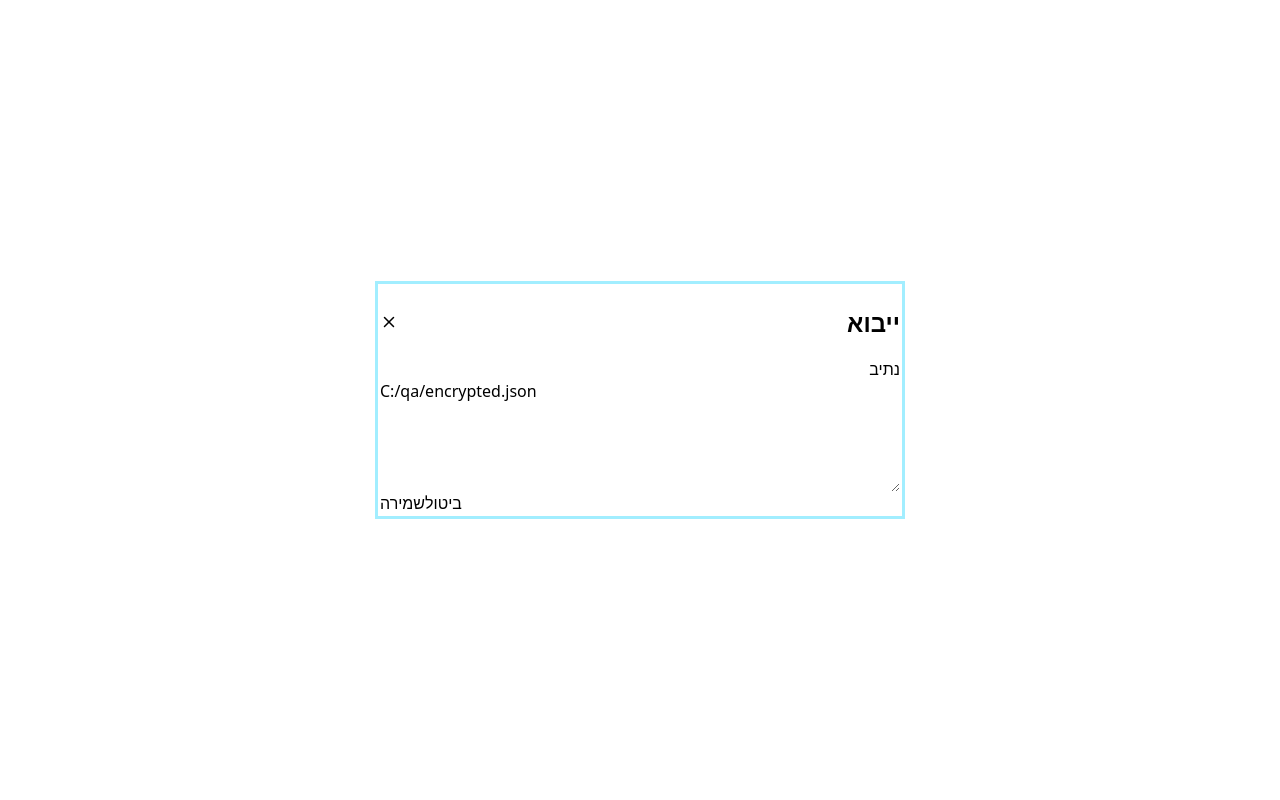
Scenario: failed input operation retains draft and prevents duplicate requests
Click the button "שמירה" at [402, 503], box [380,492,425,514]
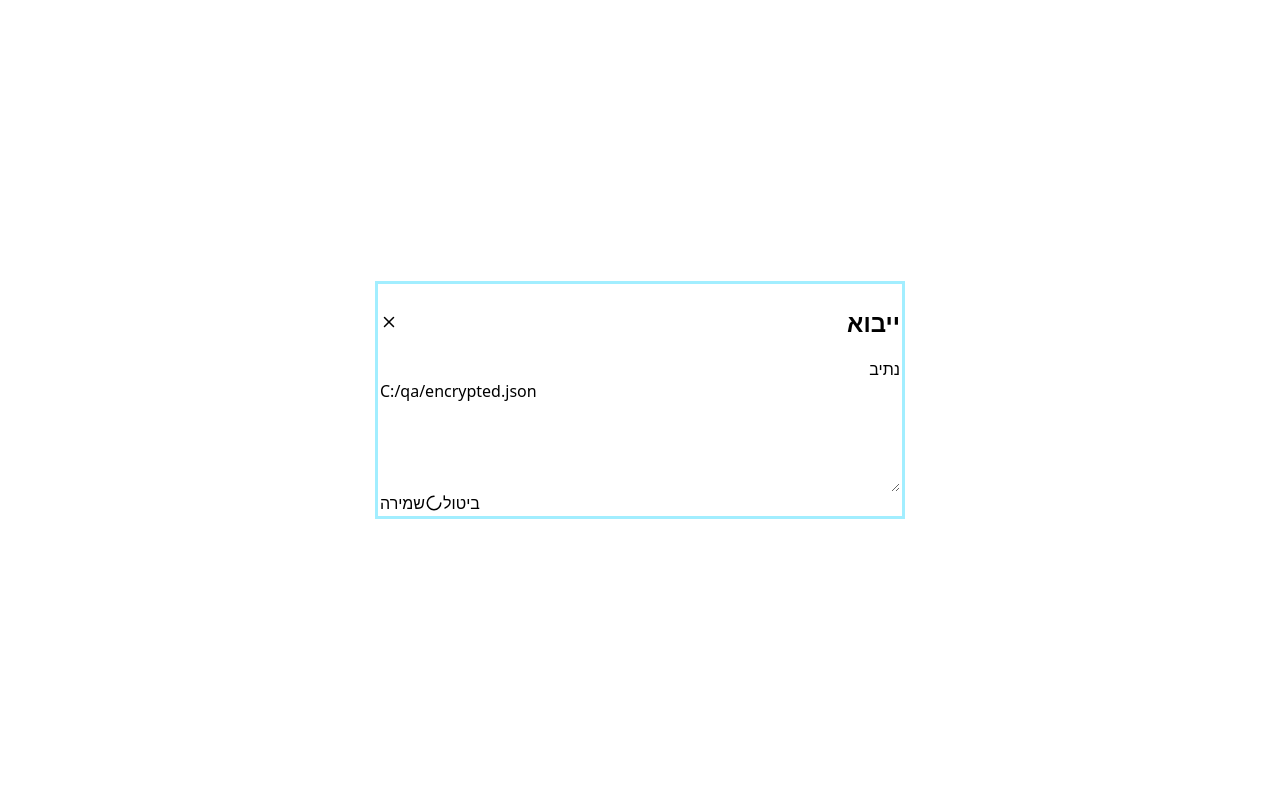
Click the button "שמירה" at [412, 503], box [380,492,443,514]
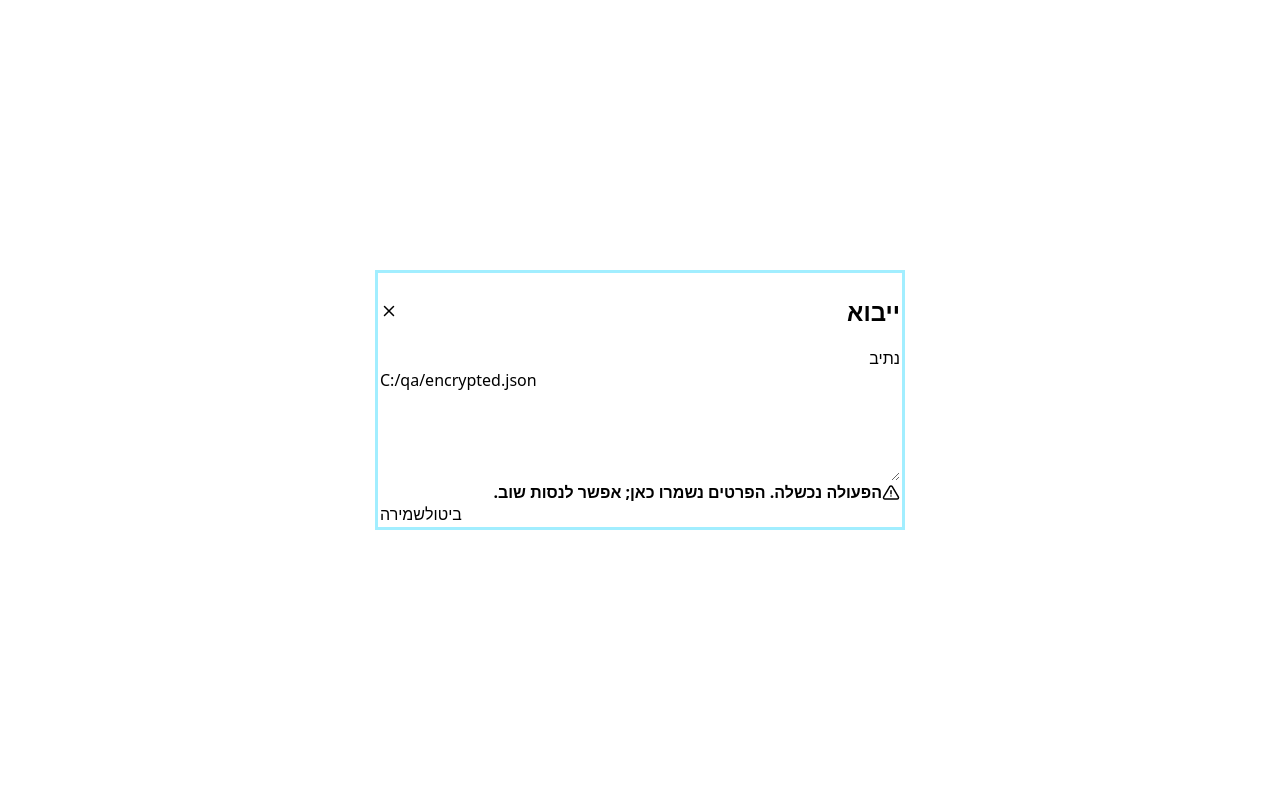
Expected: the text box labelled "נתיב" holds "C:/qa/encrypted.json", [380,369,900,481]
Expected: the message shows "הפעולה נכשלה", [494,481,882,503]
Expected: the button "שמירה" is enabled, [380,503,425,525]
